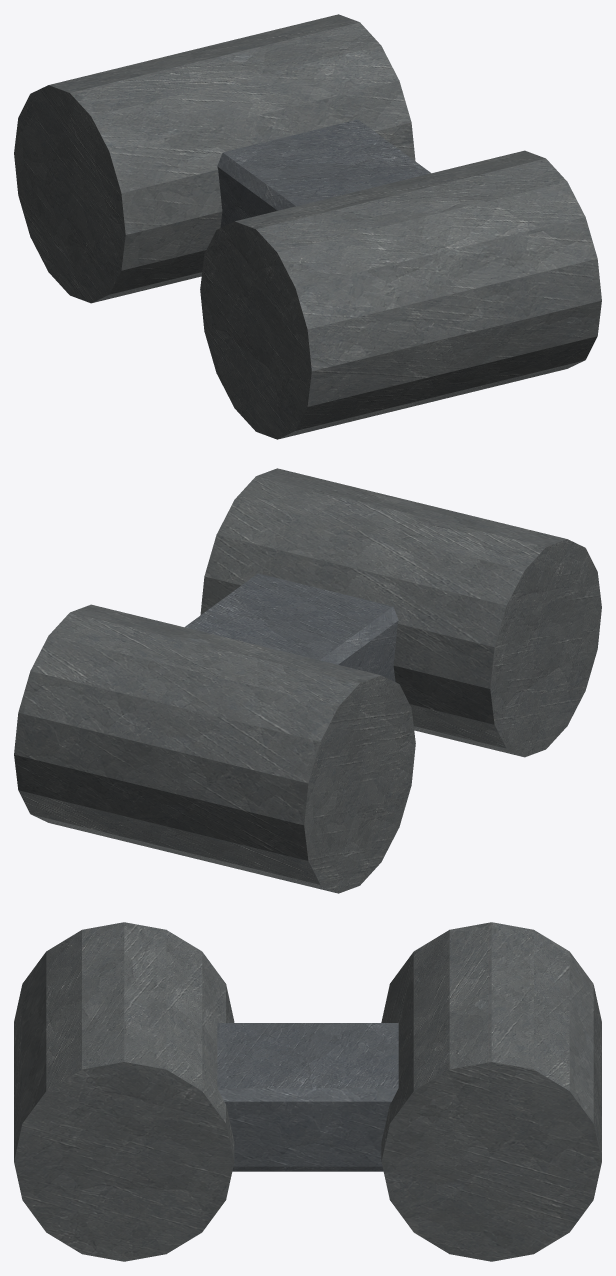
File: train_connecting_rod_short.gltf
3 renders of one model, top to bottom at view 1: azimuth 30°, elevation 25°; view 2: azimuth 150°, elevation 25°; view 3: azimuth 270°, elevation 25°, orthographic.
Size of the model in its own units: 0.36 by 0.24 by 0.64.
Materials: 2 (2 with a texture image).
